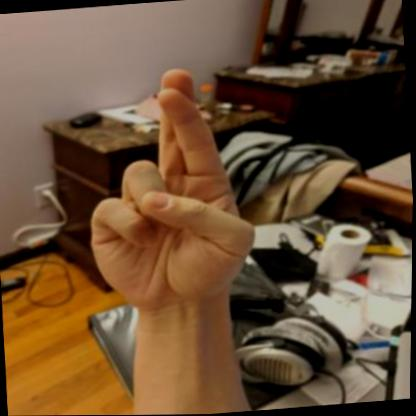R: (68, 55, 280, 324)
